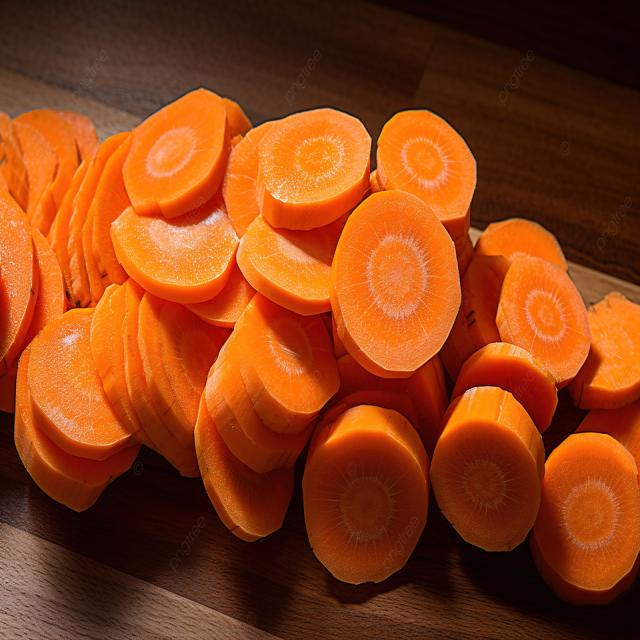ca rot: (0, 89, 639, 603)
